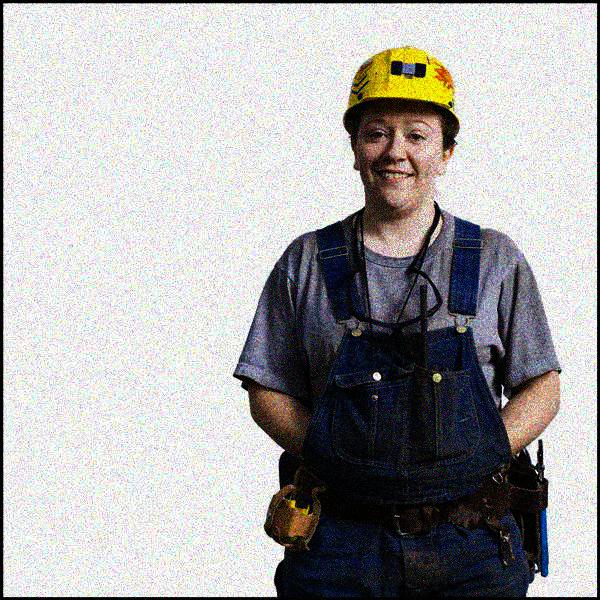helmet: (339, 43, 473, 220)
